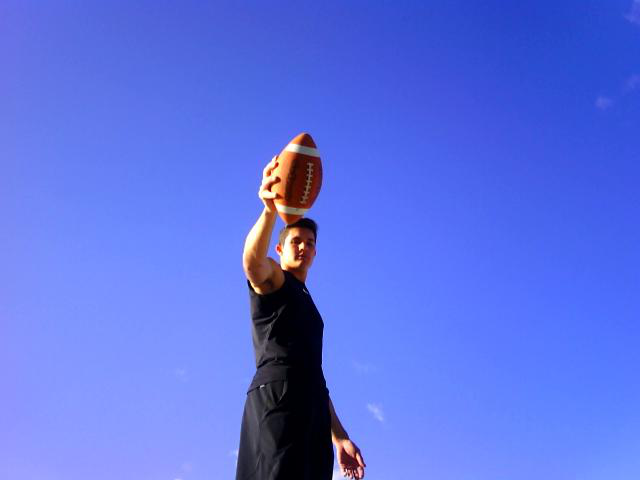footbal: (270, 134, 323, 225)
